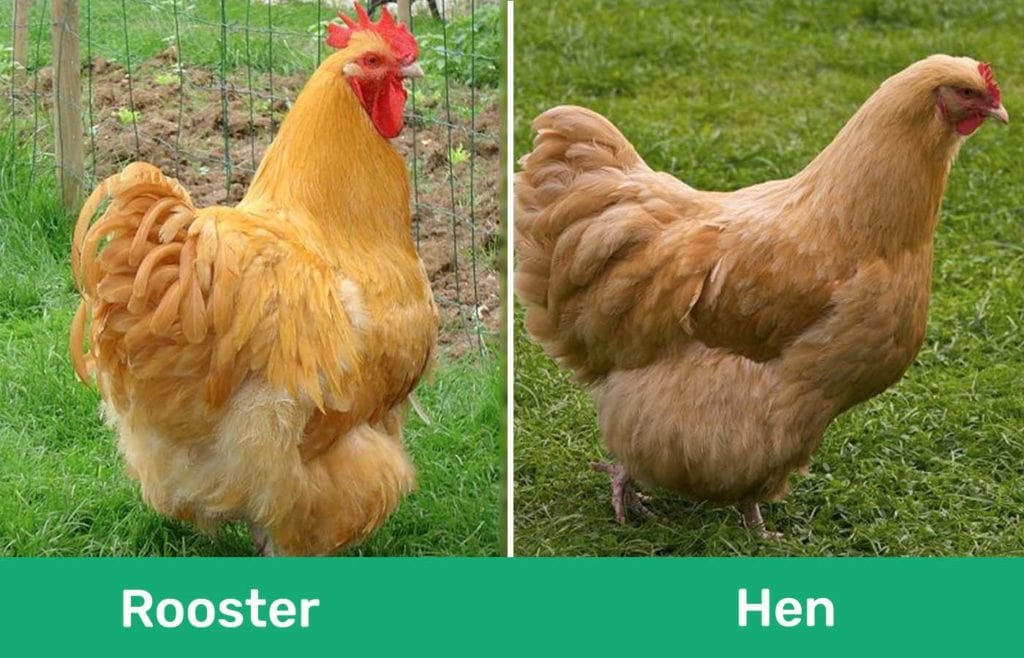buff: (526, 48, 1010, 520), (76, 6, 455, 533)
